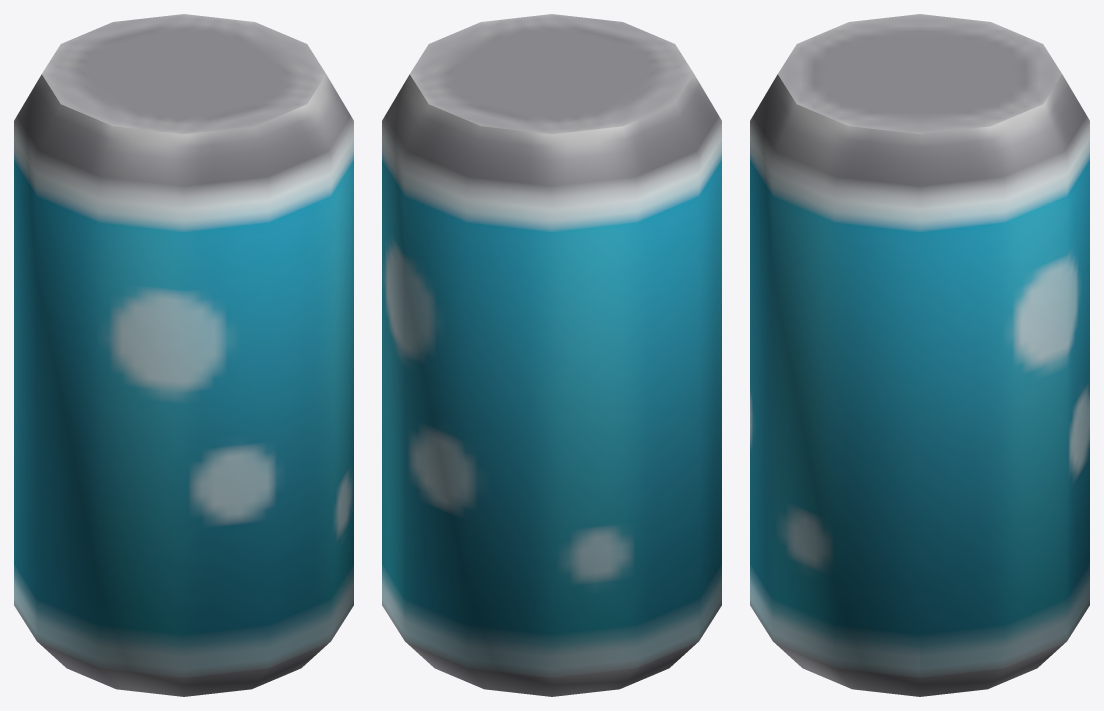
The model's file is Can.FBX.
3 renders of one model, left to right at view 1: azimuth 30°, elevation 25°; view 2: azimuth 150°, elevation 25°; view 3: azimuth 270°, elevation 25°, orthographic.
Visible parts, largest first — view 1: Can; view 2: Can; view 3: Can.
Part boxes in pixels (<box>): Can: <box>14,14,353,696</box>; Can: <box>382,14,721,696</box>; Can: <box>750,14,1089,696</box>.
Size of the model in its own units: 15.61 by 28.67 by 15.61.
